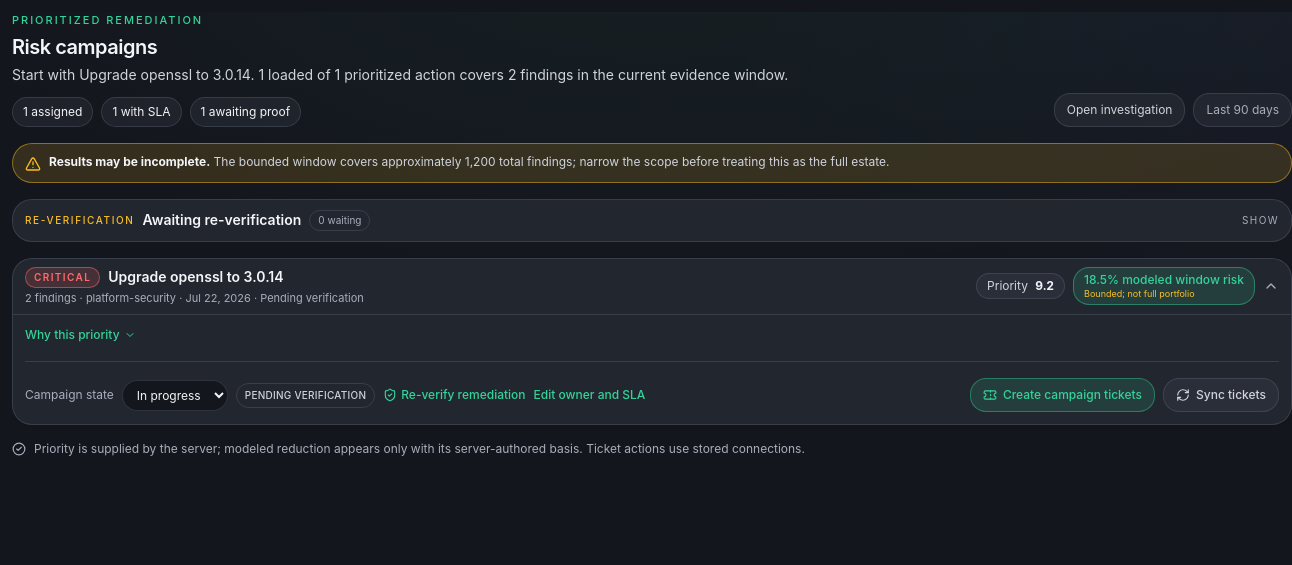
Test: RiskCampaignCommandCenter › starts assignment editing from refreshed server values
Expected: the heading "Upgrade openssl to 3.0.14" is shown, [108,267,284,287]
Select "Blocked" in the dropdown labelled "Campaign state" at (175,395), box [122,380,228,410]
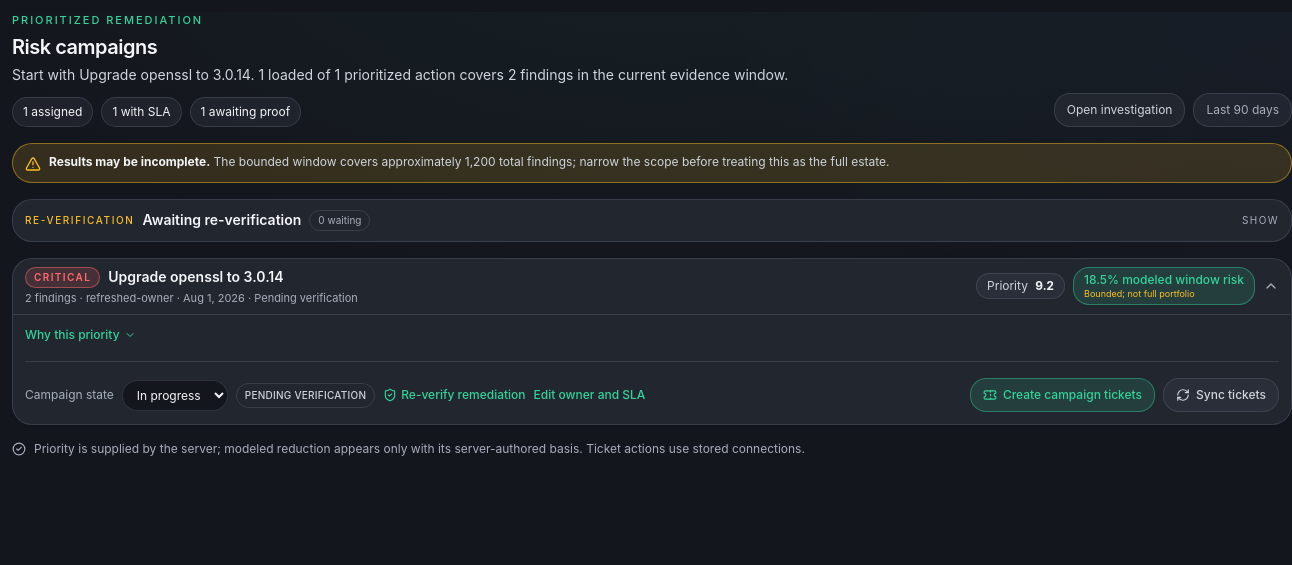
Result: the text "refreshed-owner" is shown at [86,290,174,304]
Click the button "Edit owner and SLA".
click(590, 395)  # box [534,387,645,403]
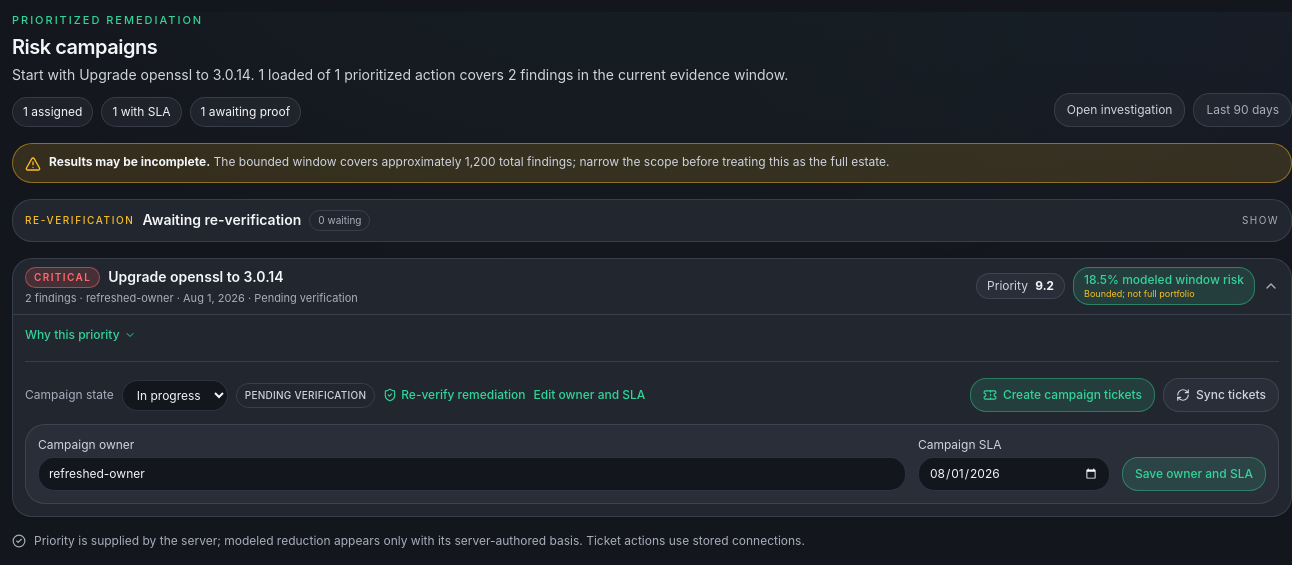
Result: the field labelled "Campaign owner" holds "refreshed-owner" at [38,457,906,491]
Result: the date field labelled "Campaign SLA" holds "2026-08-01" at [918,457,1110,491]
